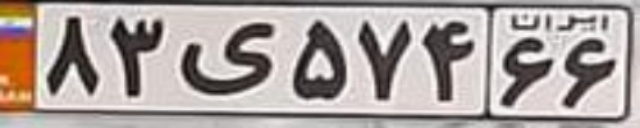4: (420, 20, 478, 101), (108, 17, 163, 98)
5: (289, 20, 350, 100)
6: (497, 35, 554, 106), (561, 37, 615, 110)
7: (356, 21, 410, 101)
8: (41, 16, 100, 95)
ye: (179, 21, 276, 95)
